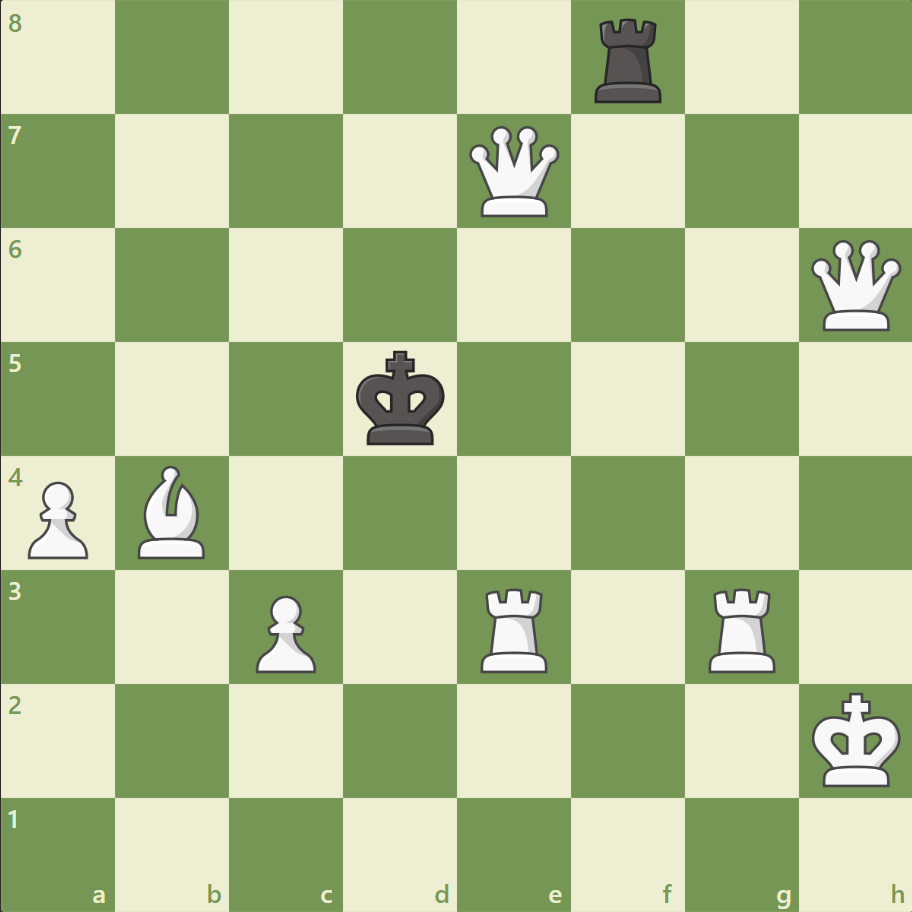B: (131, 460, 215, 563)
K: (806, 685, 906, 793)
P: (20, 473, 95, 564), (247, 586, 322, 677)
Q: (464, 122, 563, 222), (805, 236, 904, 335)
R: (473, 579, 556, 676), (700, 579, 783, 676)
k: (351, 344, 451, 452)
r: (587, 12, 670, 109)
